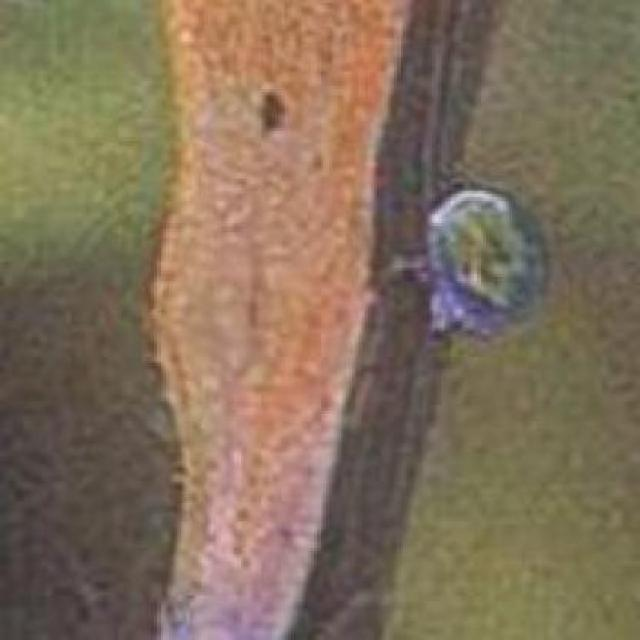stem-borer: (152, 0, 394, 640)
